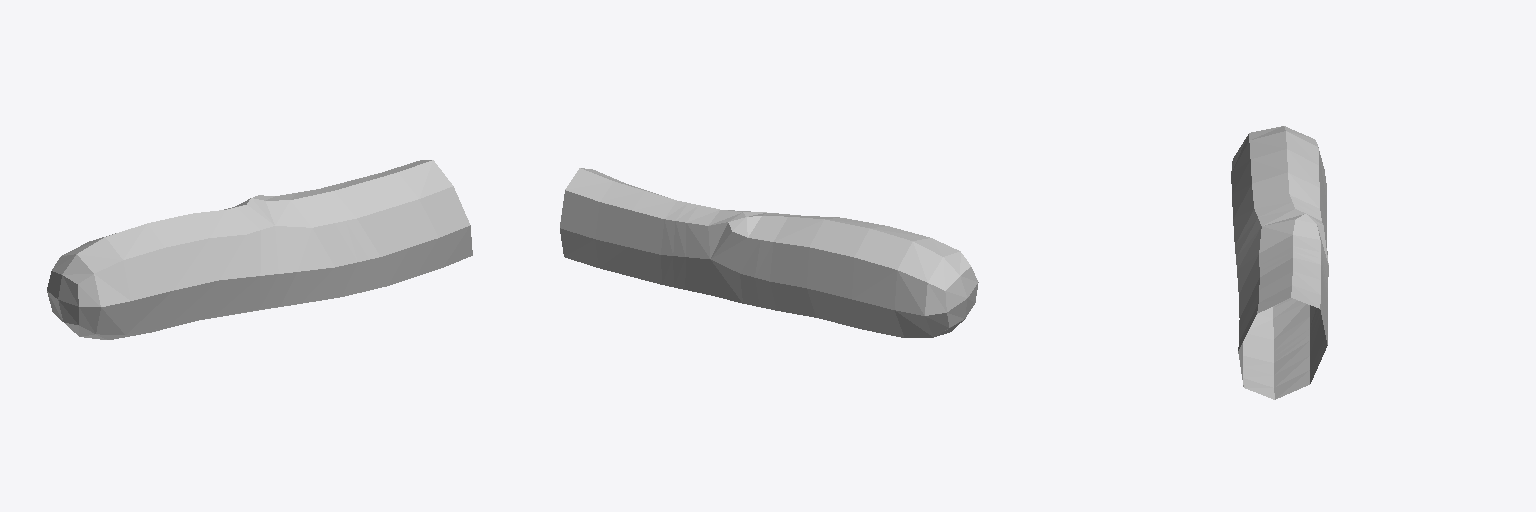
Rendered from right_hand.obj.
3 views of the same model, side by side, from view 1: azimuth 30°, elevation 25°; view 2: azimuth 150°, elevation 25°; view 3: azimuth 270°, elevation 25° (orthographic).
Visible parts, largest first — view 1: Stickman_Cube.001_Stickman_Cube.013; view 2: Stickman_Cube.001_Stickman_Cube.013; view 3: Stickman_Cube.001_Stickman_Cube.013.
Boxes of the visible parts, <box> form: Stickman_Cube.001_Stickman_Cube.013: <box>47,160,472,339</box>; Stickman_Cube.001_Stickman_Cube.013: <box>560,168,978,337</box>; Stickman_Cube.001_Stickman_Cube.013: <box>1231,126,1328,399</box>.
Bounding box in the file's own units: 1.82 × 0.4876 × 0.3871.